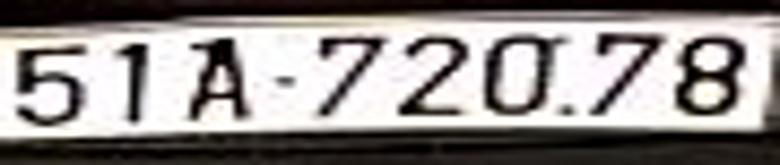-: (275, 77, 294, 86)
.: (564, 104, 571, 112)
0: (483, 34, 549, 114)
1: (115, 43, 141, 122)
2: (399, 37, 464, 117)
5: (12, 48, 85, 123)
7: (318, 36, 381, 116), (596, 32, 654, 117)
8: (678, 33, 742, 115)
A: (191, 39, 247, 123)
